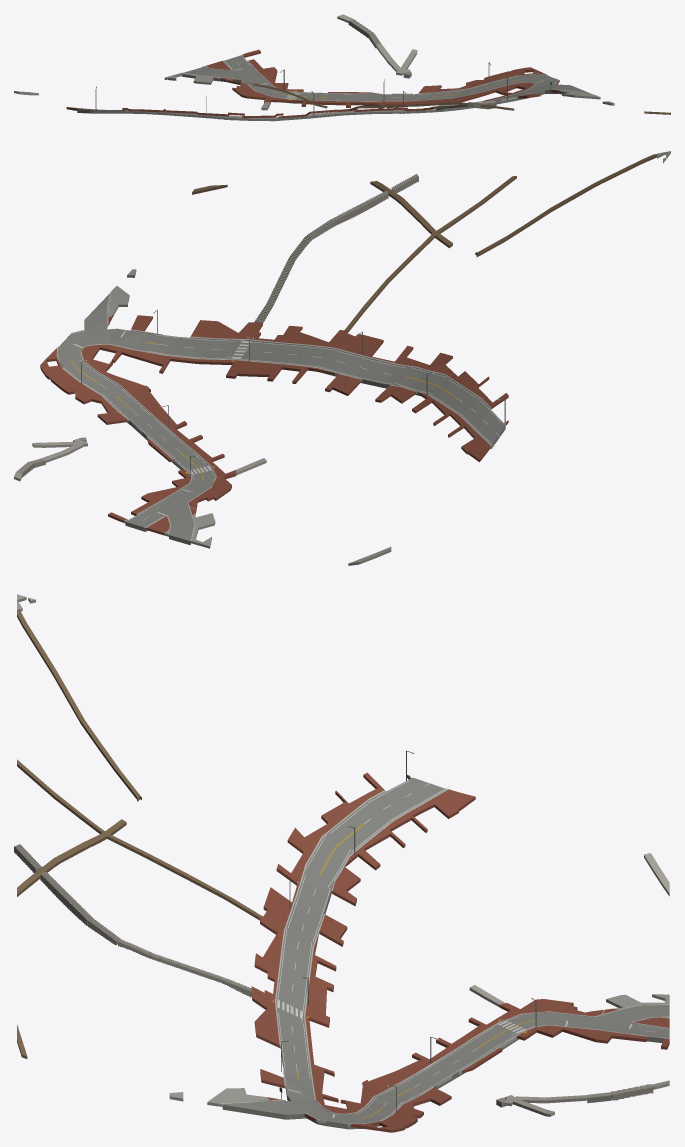
3 renders of one model, top to bottom at view 1: azimuth 30°, elevation 25°; view 2: azimuth 150°, elevation 25°; view 3: azimuth 270°, elevation 25°, orthographic. The views are drawn at different scales.
Bounding box in the file's own units: 148 × 72.57 × 147.
